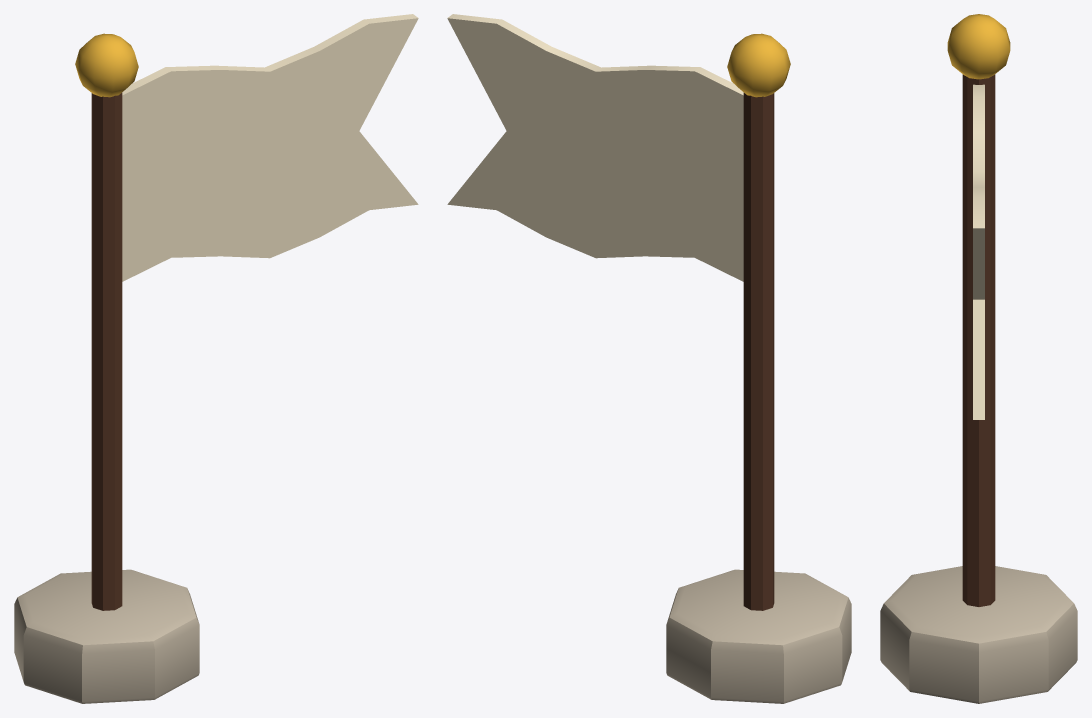
Rendered from tide_flag.glb.
The picture shows the model from 3 angles, left to right: view 1: azimuth 30°, elevation 25°; view 2: azimuth 150°, elevation 25°; view 3: azimuth 270°, elevation 25°; orthographic projection. The views are drawn at different scales.
Visible parts, largest first — view 1: Flag, Pole; view 2: Flag, Pole; view 3: Pole, Flag.
Part boxes in pixels (bbox=[...]): Flag: bbox=[122, 14, 418, 281]; Pole: bbox=[14, 33, 199, 703]; Flag: bbox=[447, 14, 743, 281]; Pole: bbox=[666, 33, 851, 703]; Pole: bbox=[880, 14, 1077, 703]; Flag: bbox=[973, 84, 984, 419].
Size of the model in its own units: 1.98 by 3.04 by 0.84.
